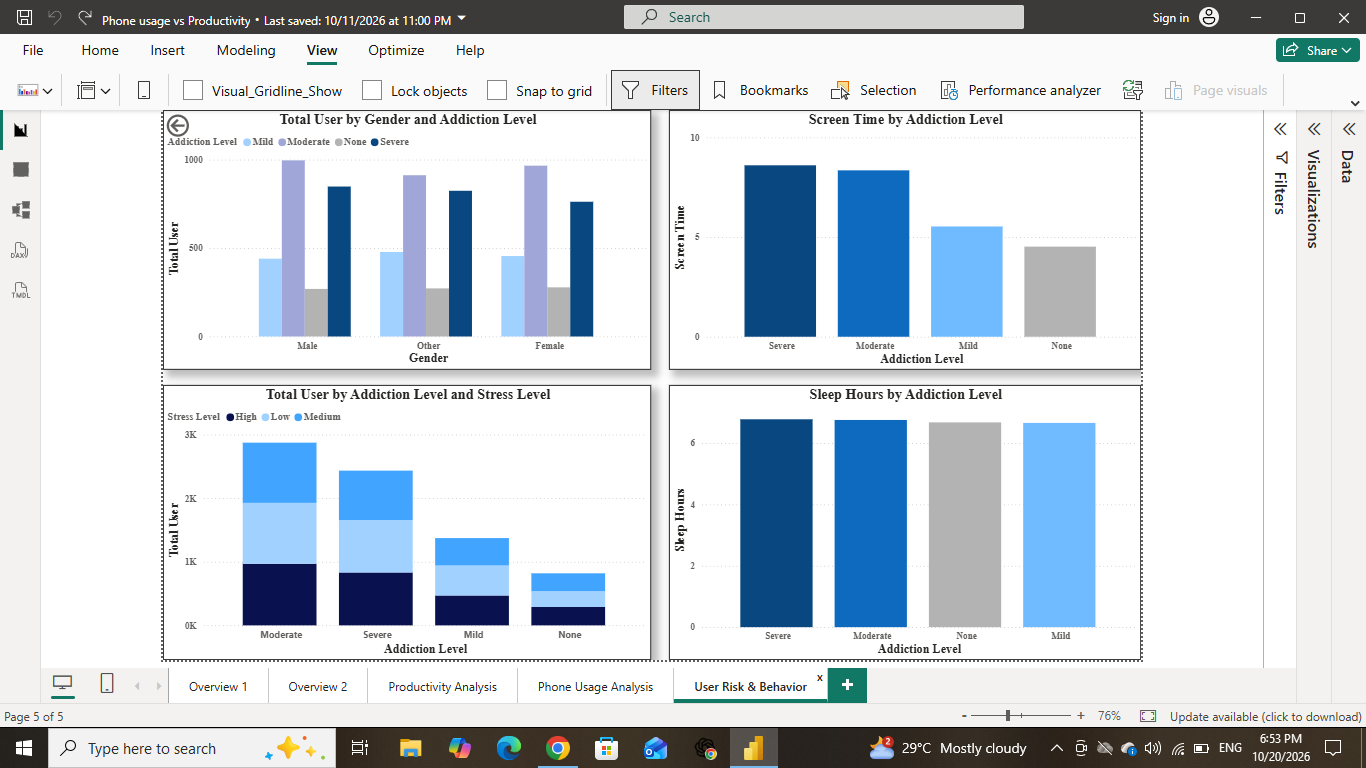

This screenshot's page, from the dashboard's own definition file:
{"tool":"powerbi","page":{"name":"User Risk & Behavior","canvas":[1280,720],"ordinal":4},"visuals":[{"type":"clusteredColumnChart","title":"Total User by Gender and Addiction Level","fields":{"Category":["Smartphone_Usage_And_Addiction_Analysis.Gender"],"Series":["Smartphone_Usage_And_Addiction_Analysis.Addiction Level"],"Y":["Smartphone_Usage_And_Addiction_Analysis.Total_User"]},"box":[0,0,639.4,339.8],"z":0},{"type":"columnChart","title":"Total User by Addiction Level and Stress Level","fields":{"Category":["Smartphone_Usage_And_Addiction_Analysis.Addiction Level"],"Y":["Smartphone_Usage_And_Addiction_Analysis.Total_User"],"Series":["Smartphone_Usage_And_Addiction_Analysis.Stress Level"]},"box":[0,360,639.4,360],"z":1000},{"type":"clusteredColumnChart","title":"Screen Time by Addiction Level","fields":{"Category":["Smartphone_Usage_And_Addiction_Analysis.Addiction Level"],"Y":["Smartphone_Usage_And_Addiction_Analysis.Avg_Screen_Time"]},"box":[662.4,0,617.8,339.8],"z":2000},{"type":"clusteredColumnChart","title":"Sleep Hours by Addiction Level","fields":{"Category":["Smartphone_Usage_And_Addiction_Analysis.Addiction Level"],"Y":["Smartphone_Usage_And_Addiction_Analysis.Avg_Sleep_Hr"]},"box":[662.4,360,617.8,360],"z":3000},{"type":"actionButton","box":[0,0,38.9,40.3],"z":4000}]}

Visuals, with their boxes on the page's 1280x720 design canvas (x1, y1, x2, y2). These are canvas units, not pixel positions in the 1366x768 screenshot, which may show the page scaled, cropped or inside an application window:
"Total User by Gender and Addiction Level" clusteredColumnChart: <box>0,0,639,340</box>
"Total User by Addiction Level and Stress Level" columnChart: <box>0,360,639,720</box>
"Screen Time by Addiction Level" clusteredColumnChart: <box>662,0,1280,340</box>
"Sleep Hours by Addiction Level" clusteredColumnChart: <box>662,360,1280,720</box>
actionButton: <box>0,0,39,40</box>
